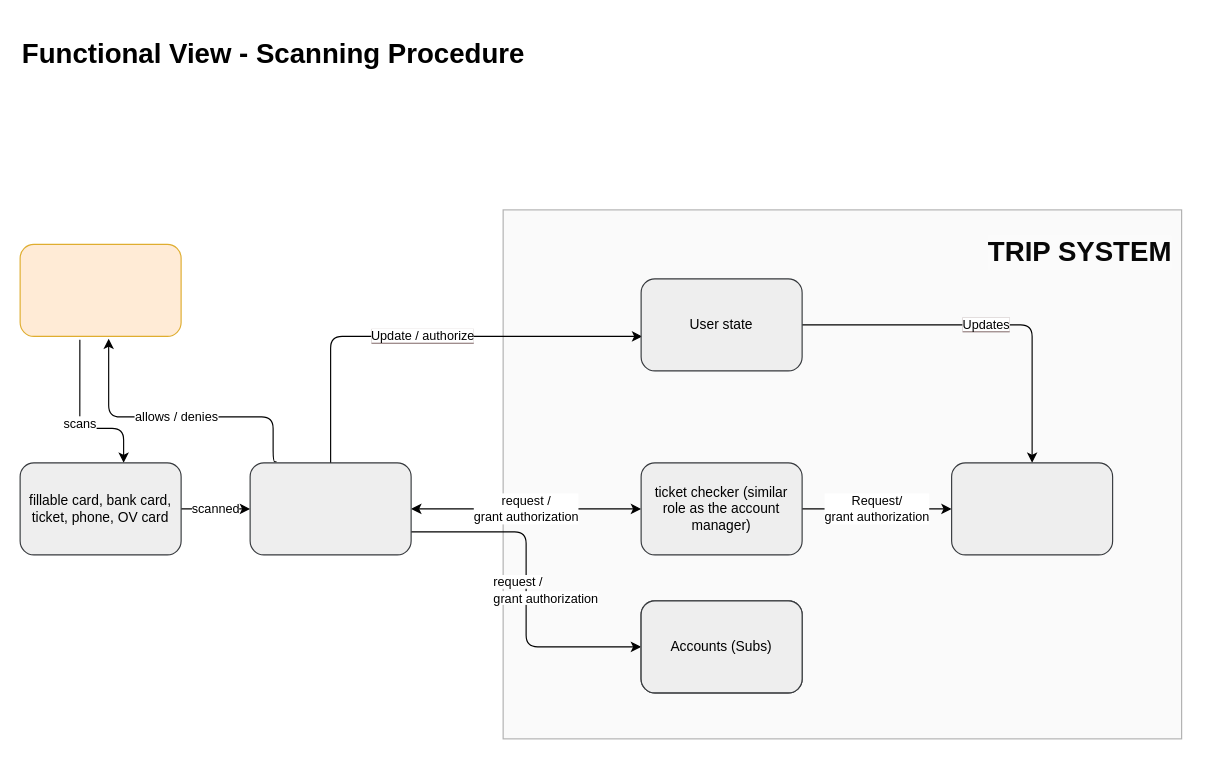
Image size: 1225x759. Some labels were removed from this diagram. Each missing label, with the centre of its shape:
"Database" belongs at (1031,508).
"turnstile (controller device, bus scanner)" belongs at (330,508).
"User" belongs at (100,289).
